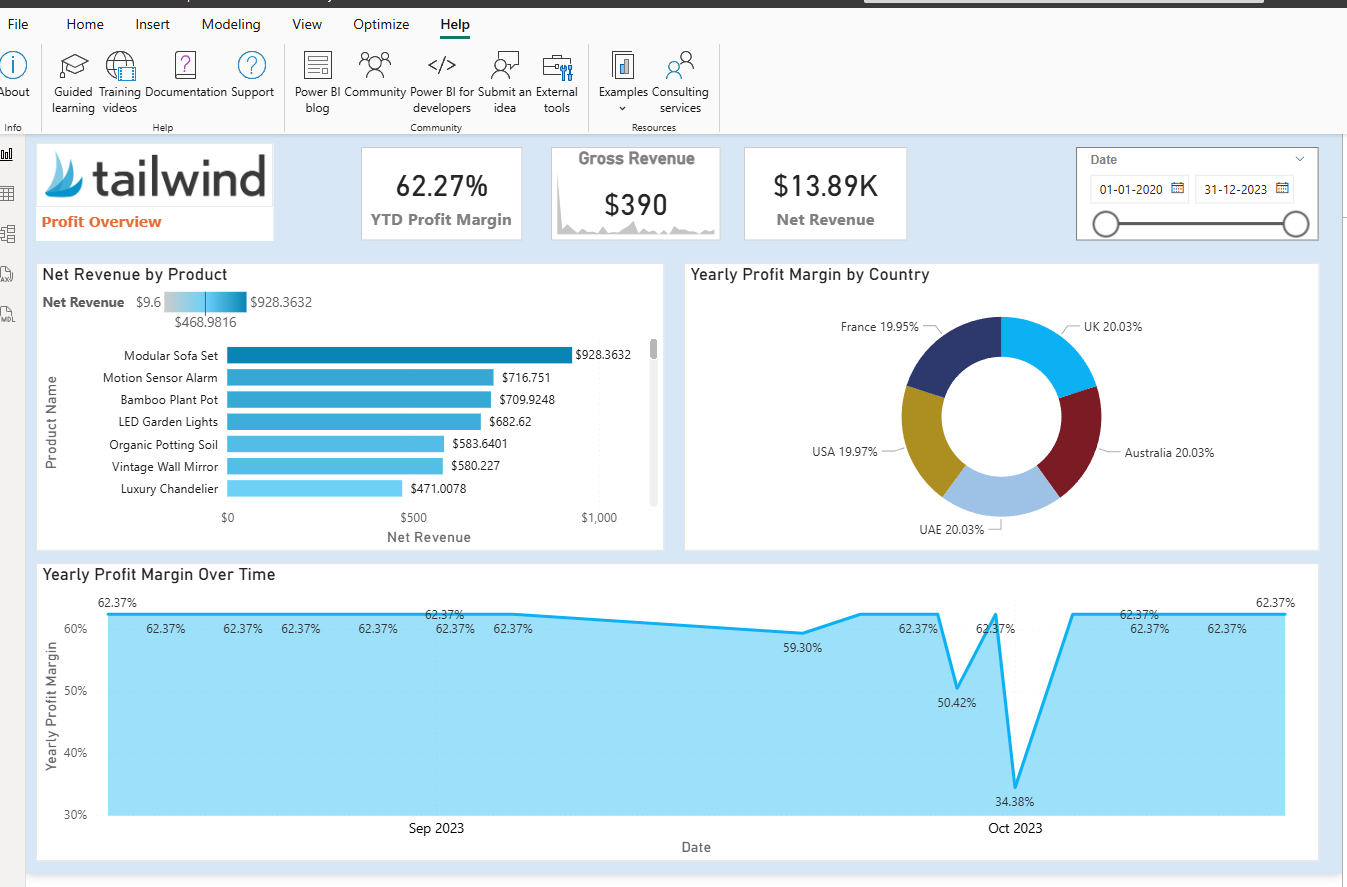

The dashboard page shown, as its layout file describes it:
{"tool":"powerbi","page":{"name":"Profit Overview","canvas":[1280,720],"ordinal":1},"visuals":[{"type":"barChart","title":"Net Revenue by Product","fields":{"Category":["Sales in USD.Product Name"],"Y":["Sales in USD.Net Revenue USD total"]},"box":[9.7,125.5,610.8,280.1],"z":0},{"type":"donutChart","fields":{"Y":["Sales in USD.Year Profit Margin"],"Category":["Countries.Country"]},"box":[640,125.5,617.6,280.1],"z":1000},{"type":"areaChart","title":"Yearly Profit Margin Over Time","fields":{"Y":["Sales in USD.Year Profit Margin"],"Category":["CalendarTable.Date"]},"box":[9.7,417.3,1247.9,289.8],"z":2000},{"type":"card","fields":{"Values":["Sales in USD.YTD Profit Margin"]},"box":[325.8,12.6,156.6,91.4],"z":3000},{"type":"card","fields":{"Values":["Sum(Sales in USD.Net Revenue USD)"]},"box":[698.4,12.6,158.5,91.4],"z":4000},{"type":"kpi","title":"Gross Revenue ","fields":{"Indicator":["Sum(Sales in USD.Gross Revenue USD)"],"TrendLine":["CalendarTable.Date"]},"box":[510.6,12.6,165.3,91.4],"z":5000},{"type":"slicer","fields":{"Values":["CalendarTable.Date"]},"box":[1021.3,12.6,236.4,91.4],"z":6000},{"type":"image","box":[9.7,8.8,230.5,62.2],"z":7000},{"type":"textbox","box":[9.7,71,230.5,33.1],"z":8000}]}

Visuals, with their boxes on the page's 1280x720 design canvas (x1, y1, x2, y2). These are canvas units, not pixel positions in the 1347x887 screenshot, which may show the page scaled, cropped or inside an application window:
"Net Revenue by Product" barChart: box=[10, 126, 620, 406]
donutChart - Sales in USD.Year Profit Margin x Countries.Country: box=[640, 126, 1258, 406]
"Yearly Profit Margin Over Time" areaChart: box=[10, 417, 1258, 707]
card - Sales in USD.YTD Profit Margin: box=[326, 13, 482, 104]
card - Sum(Sales in USD.Net Revenue USD): box=[698, 13, 857, 104]
"Gross Revenue " kpi: box=[511, 13, 676, 104]
slicer - CalendarTable.Date: box=[1021, 13, 1258, 104]
image: box=[10, 9, 240, 71]
textbox: box=[10, 71, 240, 104]
